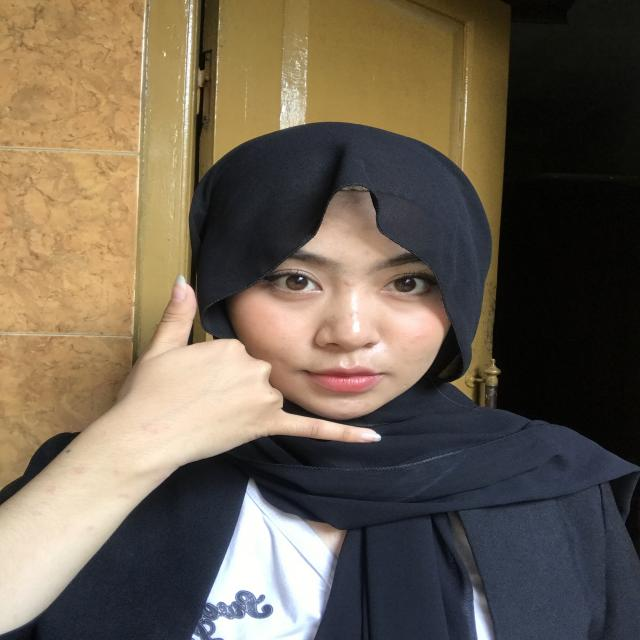telpon: (108, 263, 430, 473)
